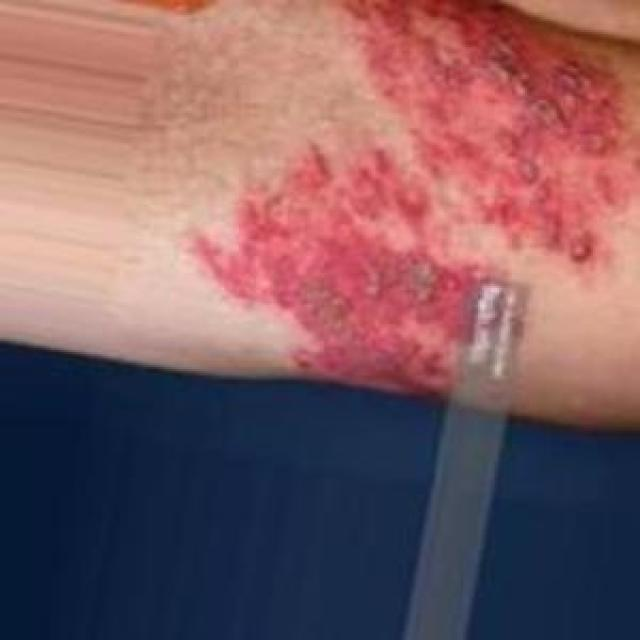Shingles: (182, 138, 512, 407), (327, 0, 632, 270)
